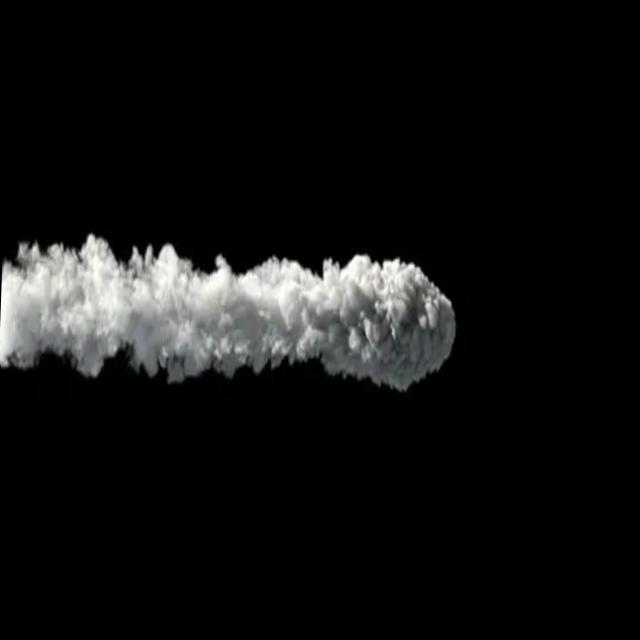Smoke: (0, 210, 461, 412)
